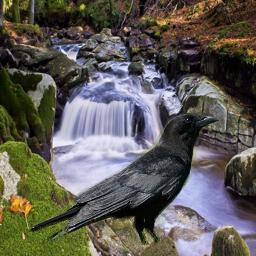Crow: (28, 113, 221, 248)
